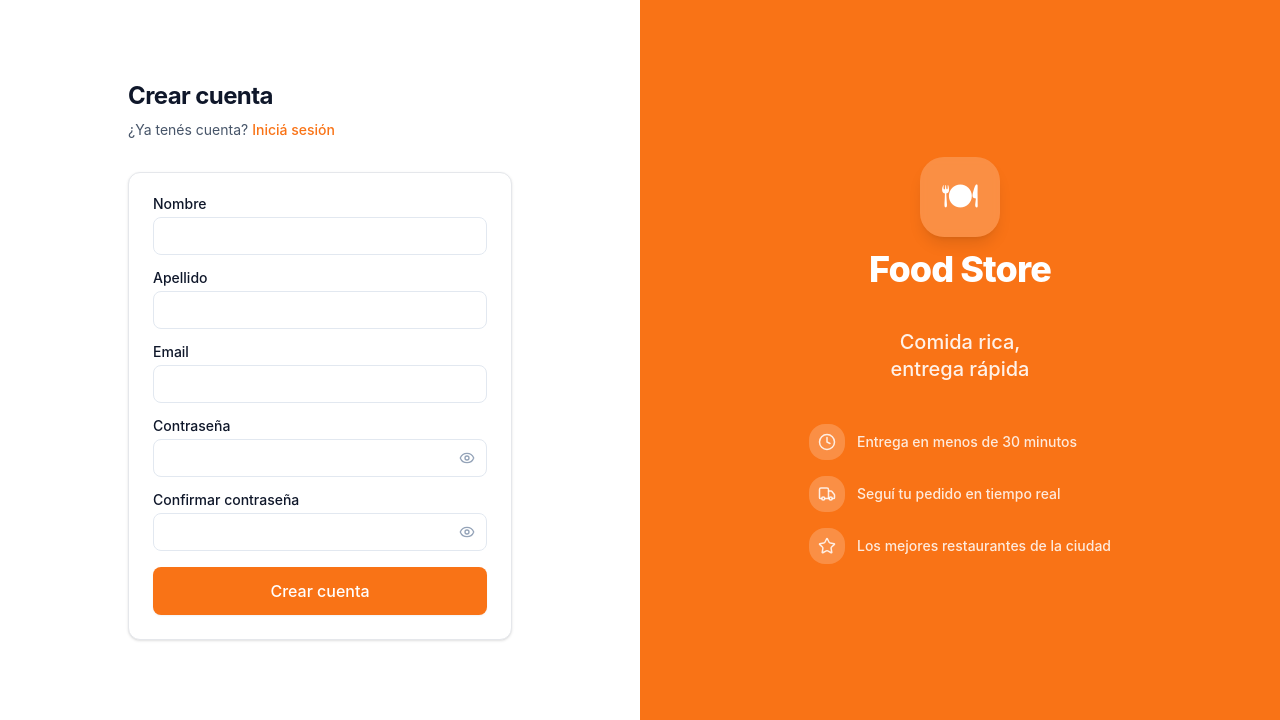
Test: RegisterPage › shows EMAIL_ALREADY_EXISTS error
The width and height of the screenshot is (1280, 720).
In the field labelled "Nombre": (320, 236) [153,217,487,255], type "Juan"
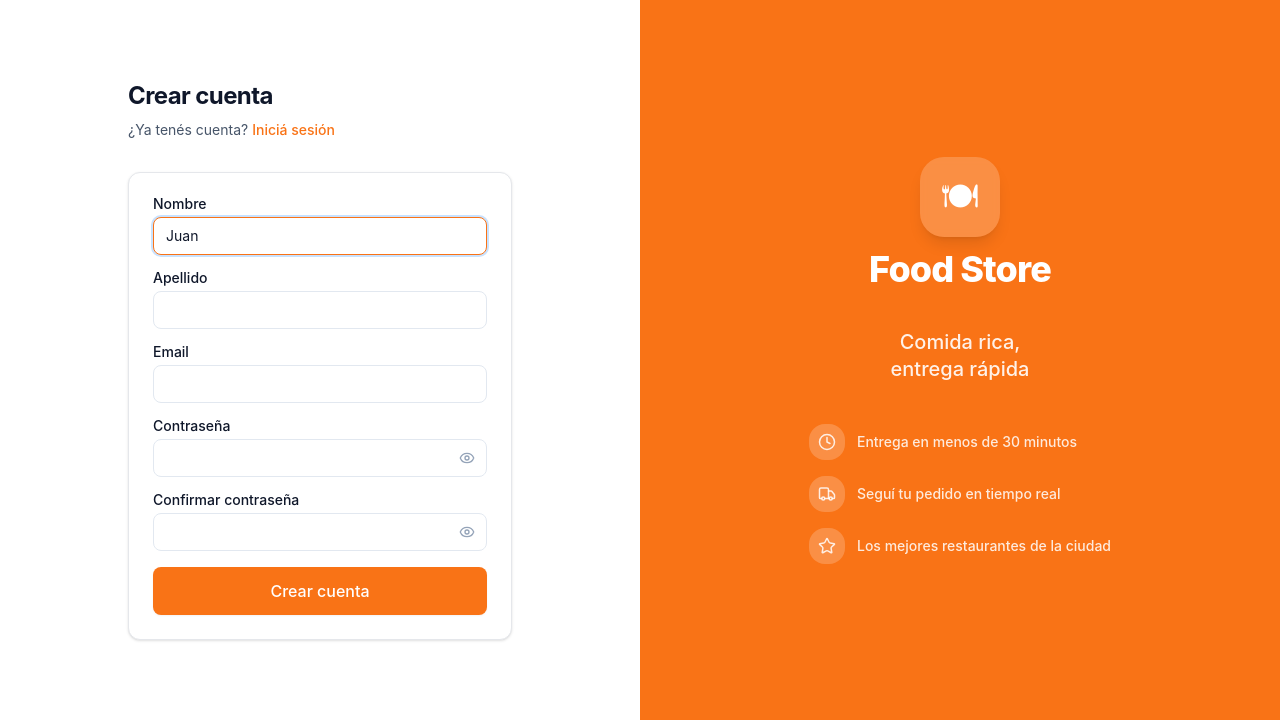
In the field labelled "Apellido": (320, 310) [153,291,487,329], type "Perez"
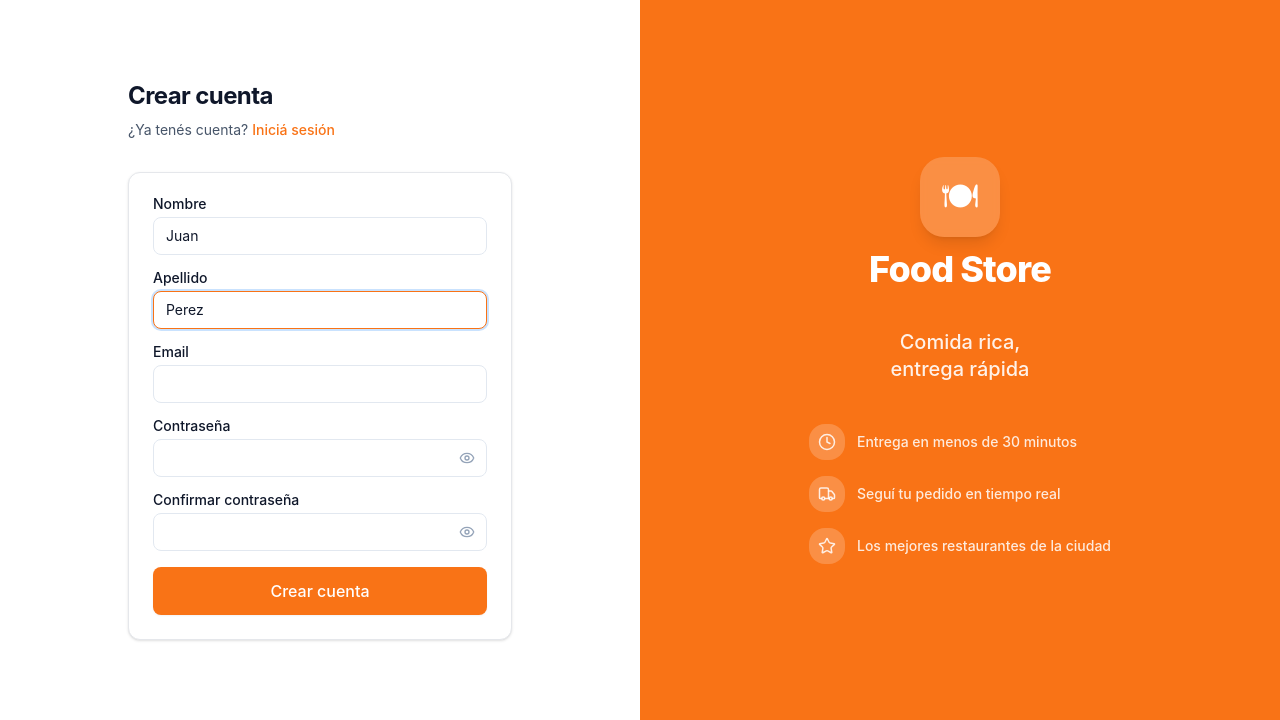
In the field labelled "Email": (320, 384) [153,365,487,403], type "existing@example.com"
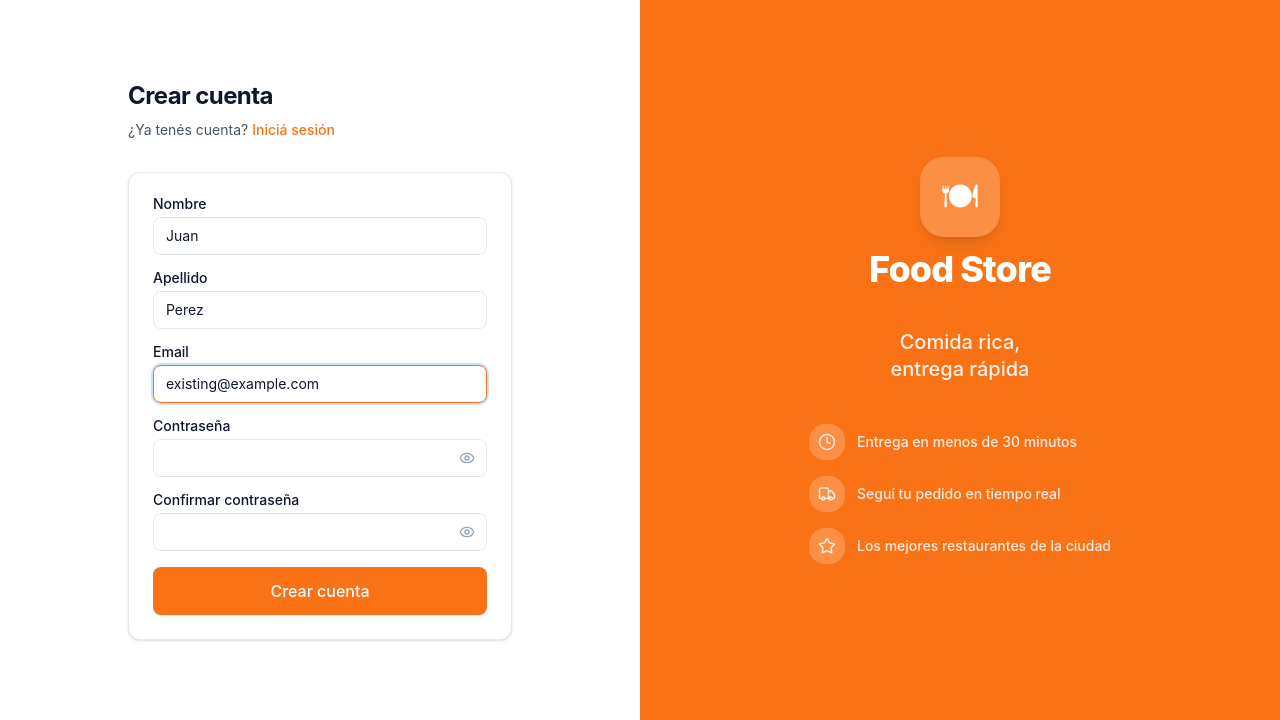
In the password field labelled "Contraseña": (320, 458) [153,439,487,477], type "password123"
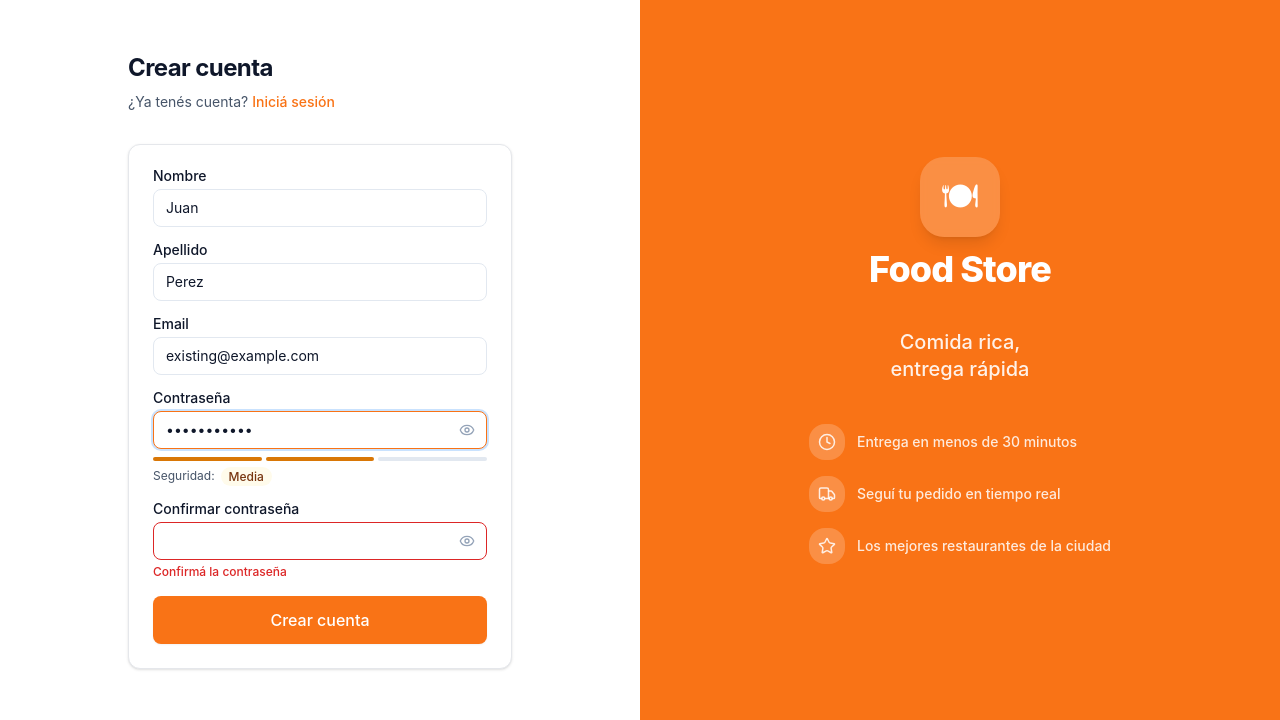
In the password field labelled "Confirmar contraseña": (320, 540) [153,522,487,560], type "password123"
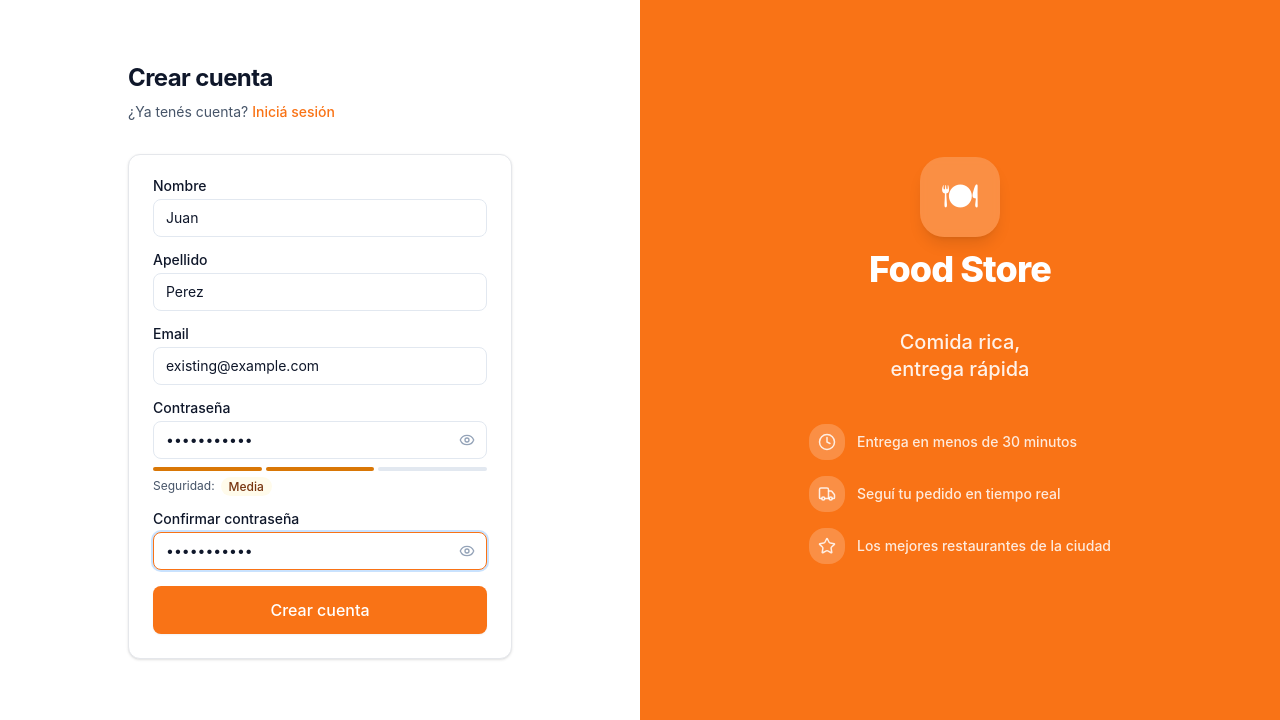
Click the button "Crear cuenta": click(320, 610) [153,586,487,634]
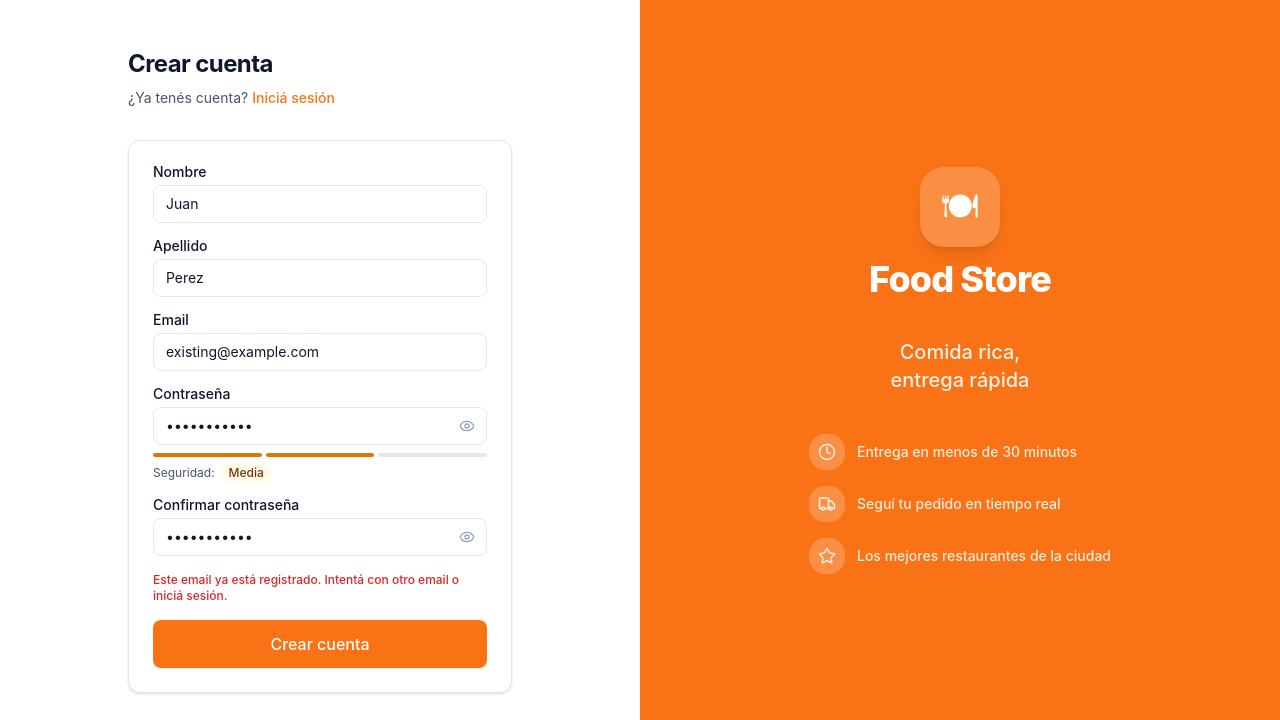
Expected: the text "Este email ya está registrado. Intentá con otro email o iniciá sesión." is shown, [153,572,487,604]
